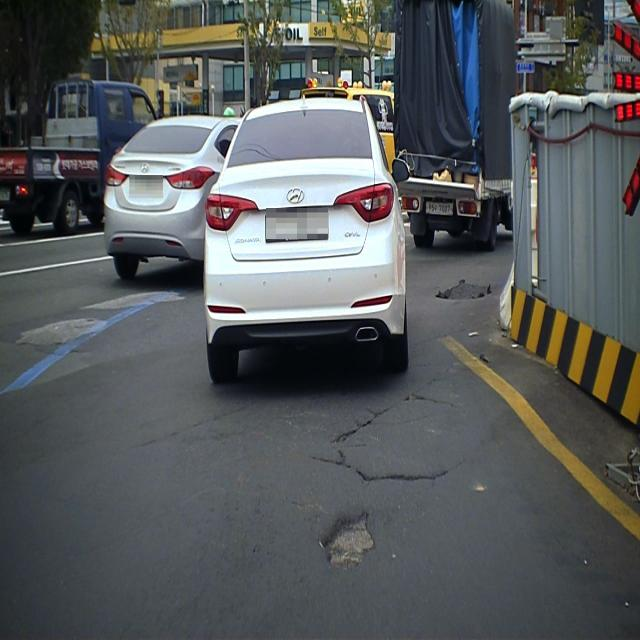Pothole: (309, 494, 384, 588)
